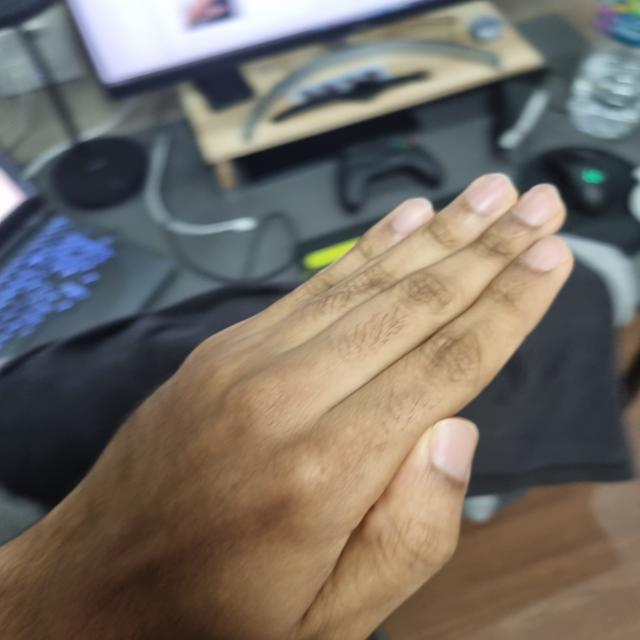Paper: (30, 175, 580, 640)
